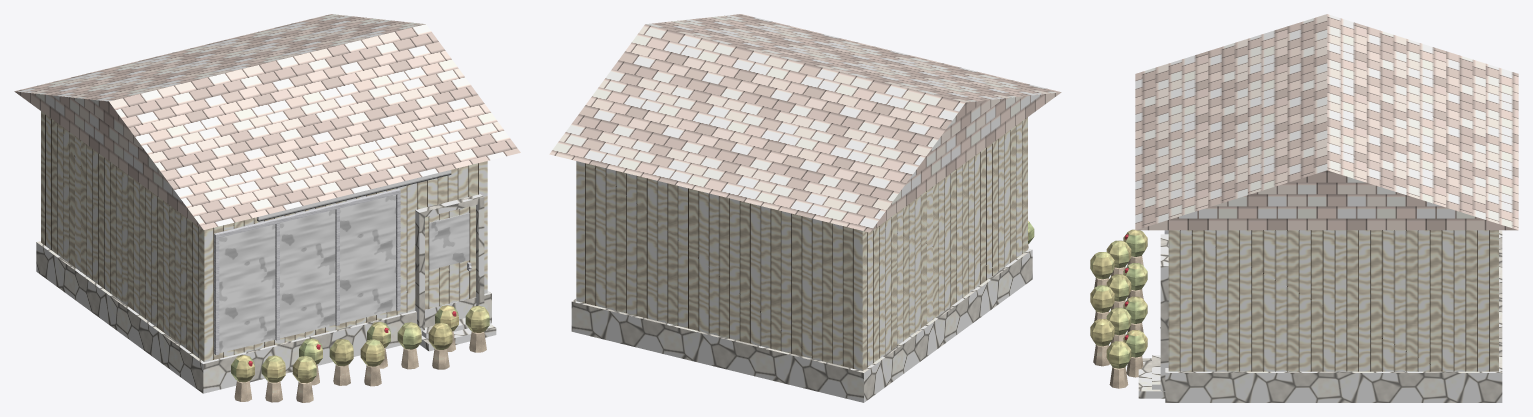
The model's file is negozio_piante.obj.
3 renders of one model, left to right at view 1: azimuth 30°, elevation 25°; view 2: azimuth 150°, elevation 25°; view 3: azimuth 270°, elevation 25°, orthographic.
Parts seen in each view (by area): view 1: tegole_002, legno_000, vetro_003, pietra_001, erba_007, metallo_004, terra_006, legno_010, pietra_011, vetro_012, stampa_a_005, pietra_014; view 2: tegole_002, legno_000, pietra_001; view 3: tegole_002, legno_000, pietra_001, erba_007, terra_006, pietra_011, pietra_014.
Boxes of the visible parts, x1,y1,x2,y2 form: tegole_002: [14, 14, 520, 229]; legno_000: [41, 111, 487, 361]; vetro_003: [219, 195, 395, 353]; pietra_001: [36, 241, 491, 393]; erba_007: [231, 305, 489, 383]; metallo_004: [214, 188, 400, 355]; terra_006: [234, 331, 486, 402]; legno_010: [425, 205, 475, 309]; pietra_011: [415, 194, 484, 335]; vetro_012: [429, 213, 469, 269]; stampa_a_005: [257, 170, 451, 221]; pietra_014: [420, 323, 496, 351]; tegole_002: [549, 14, 1061, 232]; legno_000: [576, 117, 1027, 370]; pietra_001: [571, 248, 1032, 402]; tegole_002: [1135, 14, 1518, 230]; legno_000: [1168, 230, 1498, 371]; pietra_001: [1165, 230, 1502, 402]; erba_007: [1090, 229, 1147, 368]; terra_006: [1093, 256, 1143, 388]; pietra_011: [1160, 234, 1168, 390]; pietra_014: [1138, 358, 1165, 398].
Bounding box in the file's own units: 5.6 × 4 × 6.49.
Materials: 16 (15 with a texture image).
